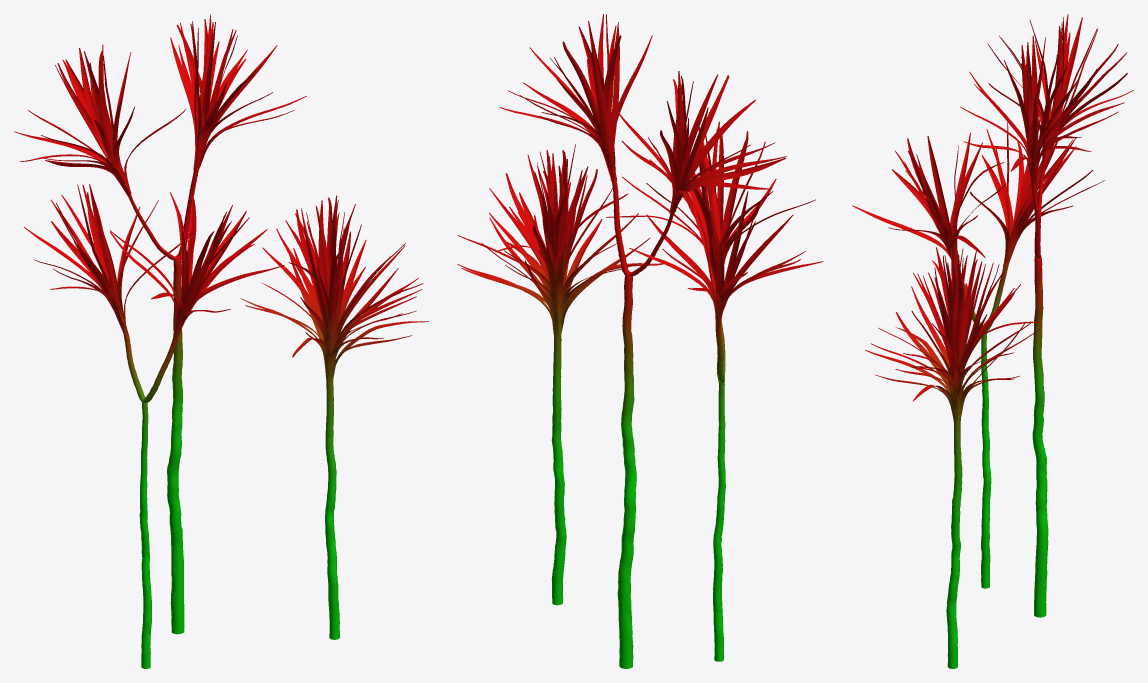
The model's file is Dragon Tree_LOD0_Var6_wfypejzha.fbx.
The picture shows the model from 3 angles, left to right: view 1: azimuth 30°, elevation 25°; view 2: azimuth 150°, elevation 25°; view 3: azimuth 270°, elevation 25°; orthographic projection. The views are drawn at different scales.
Parts seen in each view (by area): view 1: _nvyc_Var6_LOD0; view 2: _nvyc_Var6_LOD0; view 3: _nvyc_Var6_LOD0.
Boxes of the visible parts, x1,y1,x2,y2 form: _nvyc_Var6_LOD0: (14,14,428,668); _nvyc_Var6_LOD0: (457,14,823,668); _nvyc_Var6_LOD0: (852,14,1133,668).
Size of the model in its own units: 64.54 by 109 by 47.78.
